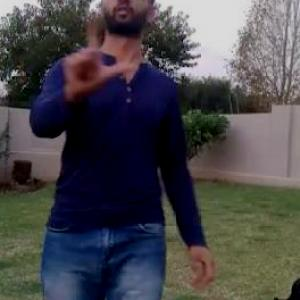land_hand: (54, 12, 131, 96)
